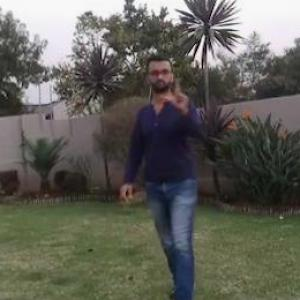land_hand: (157, 72, 195, 118)
